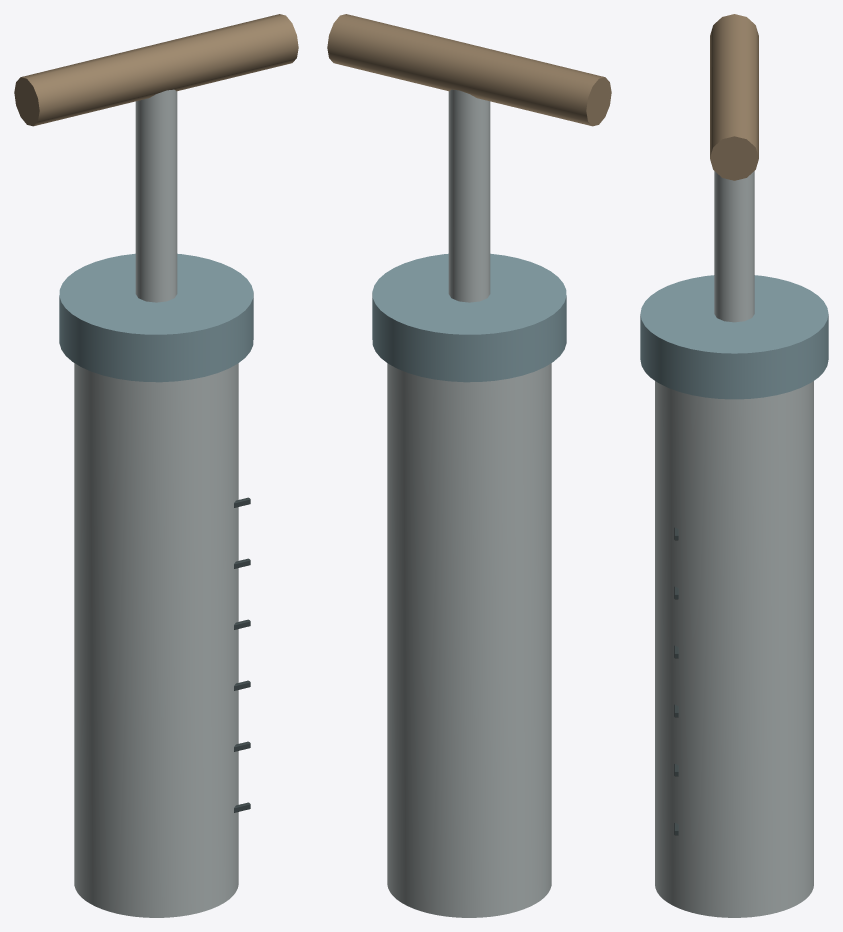
File: abandoned-tidal-model-testing-hall-sediment-sampling-c-b1e0f385__32366.glb
3 views of the same model, side by side, from view 1: azimuth 30°, elevation 25°; view 2: azimuth 150°, elevation 25°; view 3: azimuth 270°, elevation 25° (orthographic). The views are drawn at different scales.
Visible parts, largest first — view 1: sediment-sampling-cylinder; view 2: sediment-sampling-cylinder; view 3: sediment-sampling-cylinder.
Boxes of the visible parts, bbox=[...] form: sediment-sampling-cylinder: bbox=[14, 14, 298, 917]; sediment-sampling-cylinder: bbox=[327, 14, 611, 917]; sediment-sampling-cylinder: bbox=[640, 14, 828, 917].
Size of the model in its own units: 0.2 by 0.617 by 0.13.
